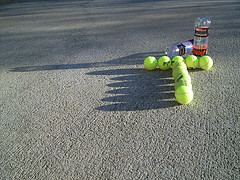tennis ball: (175, 86, 192, 104), (142, 56, 158, 71), (175, 79, 191, 94), (175, 74, 190, 89), (157, 56, 171, 70), (184, 55, 198, 69), (173, 66, 187, 80), (199, 55, 212, 70), (173, 62, 186, 76), (172, 56, 184, 69)
